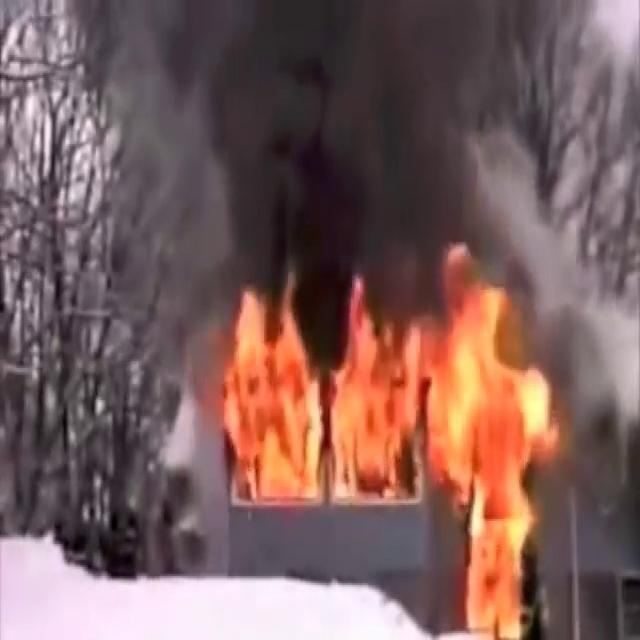Fire: (208, 248, 572, 632)
Smoke: (86, 1, 617, 327)
